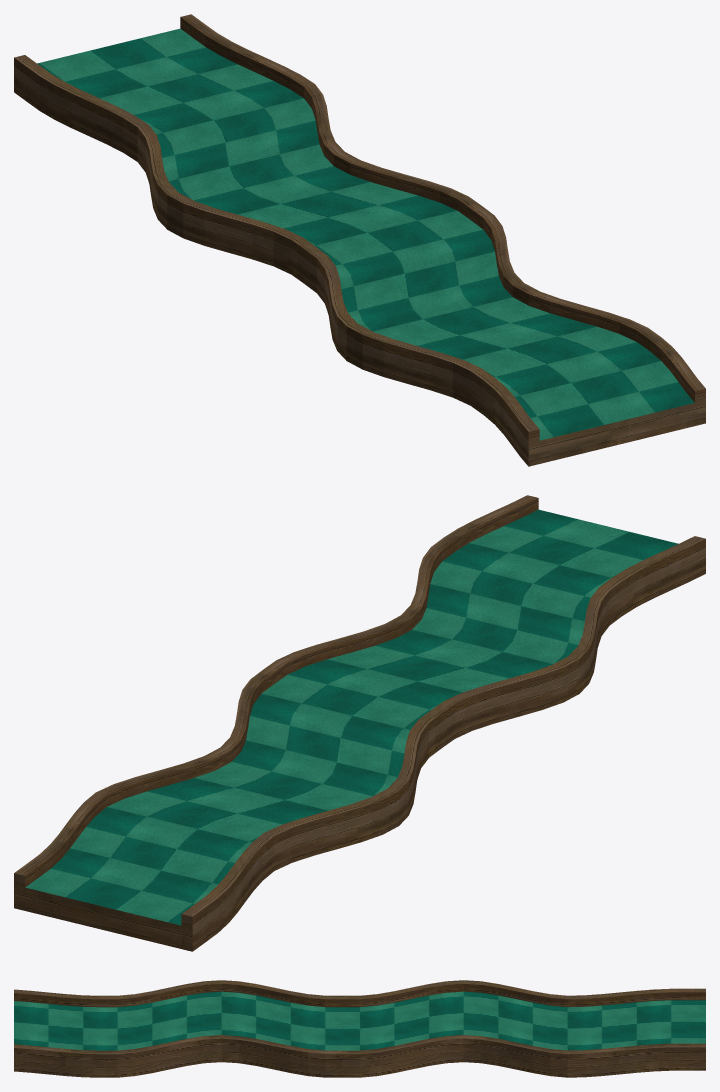
The model's file is PartCurves.gltf.
3 renders of one model, top to bottom at view 1: azimuth 30°, elevation 25°; view 2: azimuth 150°, elevation 25°; view 3: azimuth 270°, elevation 25°, orthographic. The views are drawn at different scales.
Parts seen in each view (by area): view 1: PartCurves_grass_glb, PartCurves_wood_glb; view 2: PartCurves_grass_glb, PartCurves_wood_glb; view 3: PartCurves_grass_glb, PartCurves_wood_glb.
Boxes of the visible parts, <box> form: PartCurves_grass_glb: <box>37,28,694,440</box>; PartCurves_wood_glb: <box>14,14,705,466</box>; PartCurves_grass_glb: <box>25,509,678,925</box>; PartCurves_wood_glb: <box>14,495,705,951</box>; PartCurves_grass_glb: <box>14,991,705,1050</box>; PartCurves_wood_glb: <box>14,980,705,1077</box>.
Size of what is drawn, in the model's own units: 5.07 by 0.75 by 20.
2 materials, 2 textured.
